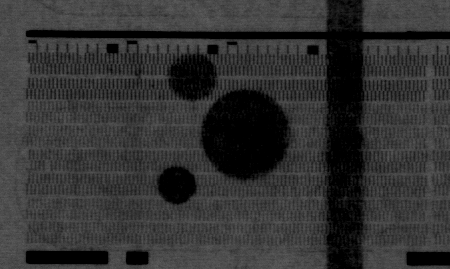Broken hole: (42, 159, 54, 172)
